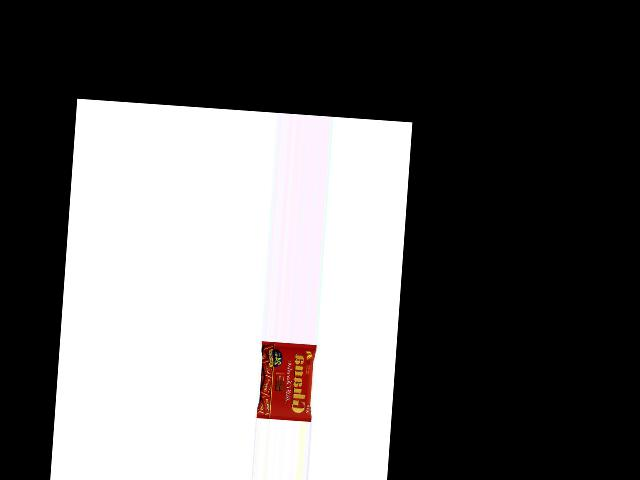chocolate: (254, 339, 315, 420)
